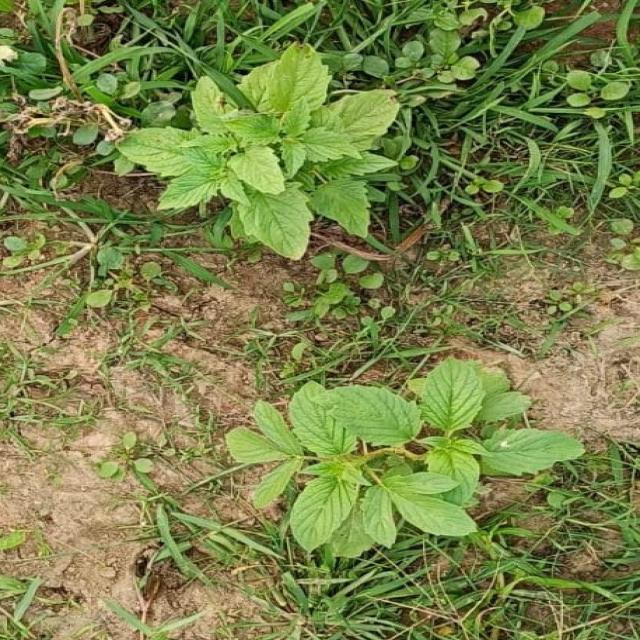plant: (227, 360, 583, 557), (119, 44, 399, 258)
